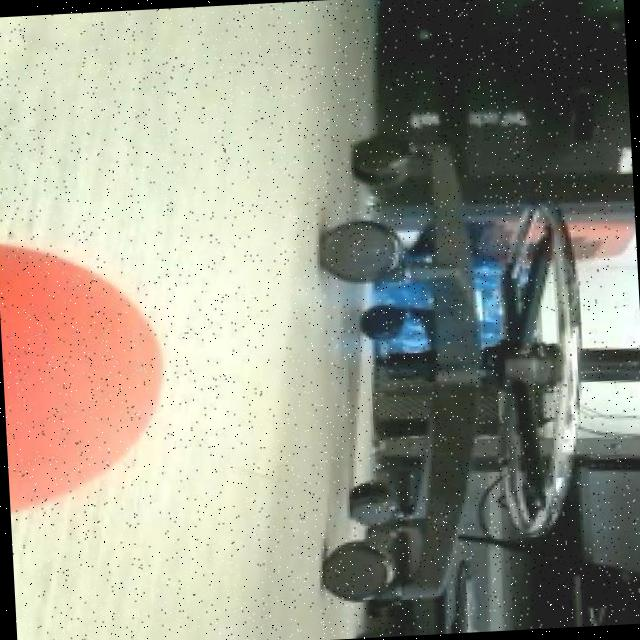ping-pong-ball: (0, 228, 174, 520)
